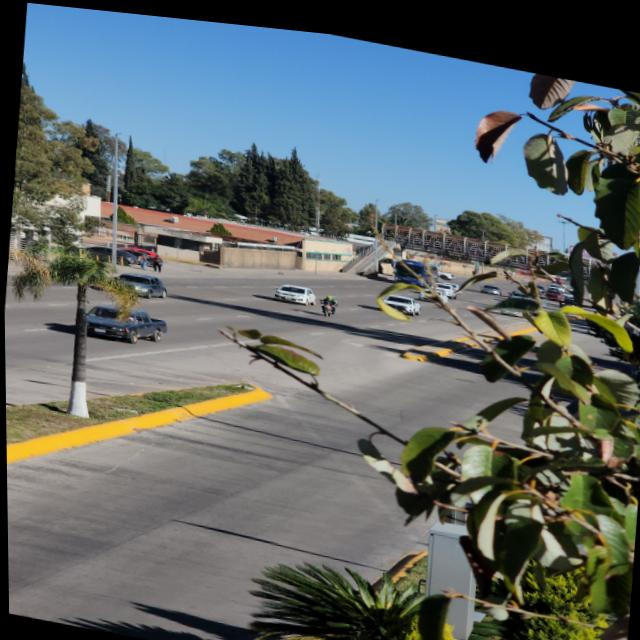Auto: (113, 302, 165, 344), (116, 268, 167, 300), (377, 281, 422, 312), (273, 275, 317, 301)
